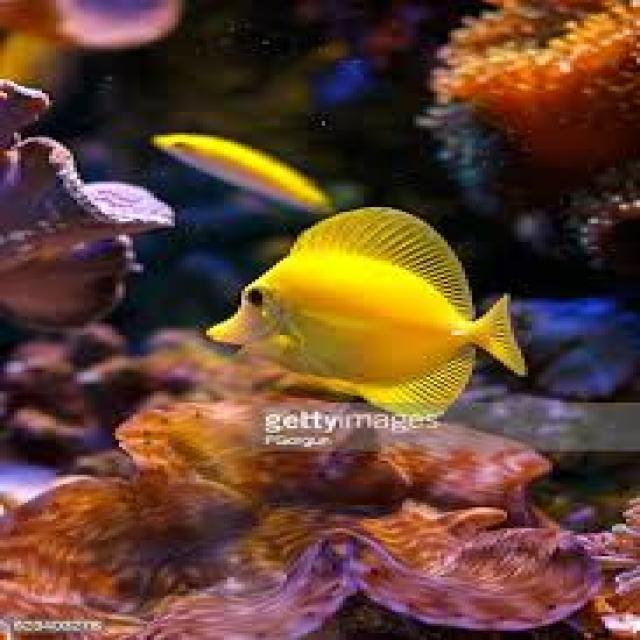YellowTang: (201, 192, 571, 428)
